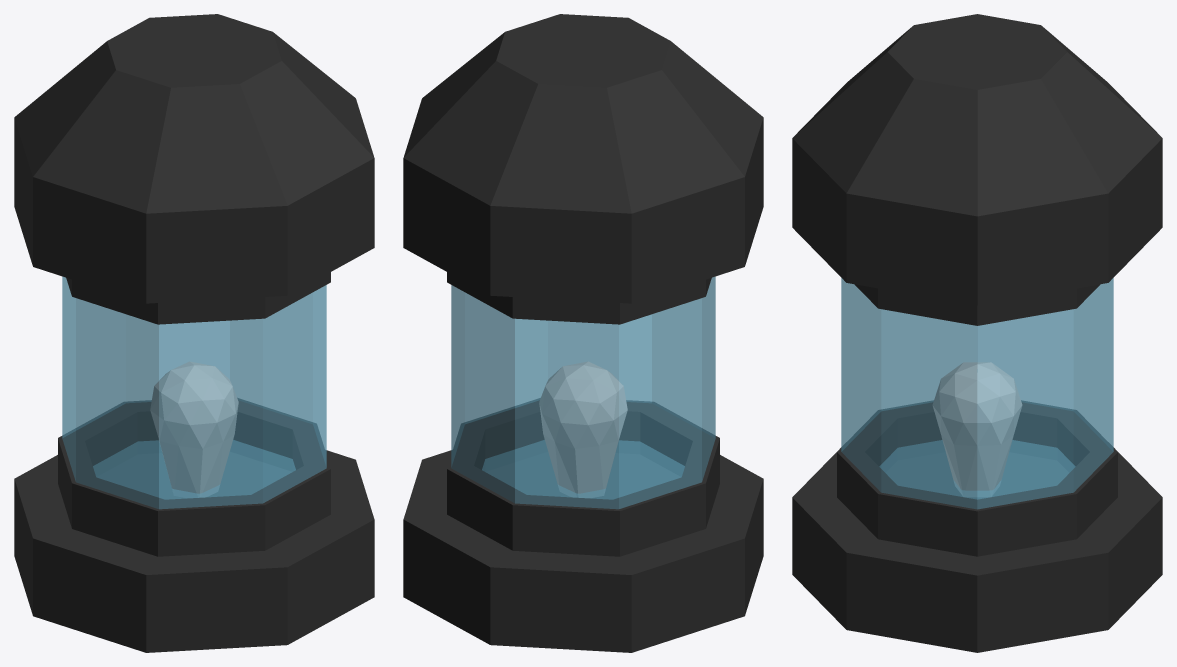
File: Lantern.fbx
3 renders of one model, left to right at view 1: azimuth 30°, elevation 25°; view 2: azimuth 150°, elevation 25°; view 3: azimuth 270°, elevation 25°, orthographic.
Parts seen in each view (by area): view 1: Cylinder.001, Cylinder, Cylinder.002, Icosphere; view 2: Cylinder.001, Cylinder, Cylinder.002, Icosphere; view 3: Cylinder.001, Cylinder, Cylinder.002, Icosphere.
Boxes of the visible parts, left/top/right/bottom form: Cylinder.001: left=14, top=14, right=374, bottom=324; Cylinder: left=14, top=398, right=374, bottom=652; Cylinder.002: left=62, top=276, right=326, bottom=509; Icosphere: left=150, top=361, right=238, bottom=497; Cylinder.001: left=403, top=14, right=763, bottom=324; Cylinder: left=403, top=398, right=763, bottom=652; Cylinder.002: left=451, top=276, right=715, bottom=509; Icosphere: left=539, top=361, right=627, bottom=497; Cylinder.001: left=792, top=14, right=1162, bottom=325; Cylinder: left=792, top=400, right=1162, bottom=652; Cylinder.002: left=841, top=278, right=1113, bottom=509; Icosphere: left=932, top=362, right=1022, bottom=496.
Size of the model in its own units: 200 by 311 by 200.
